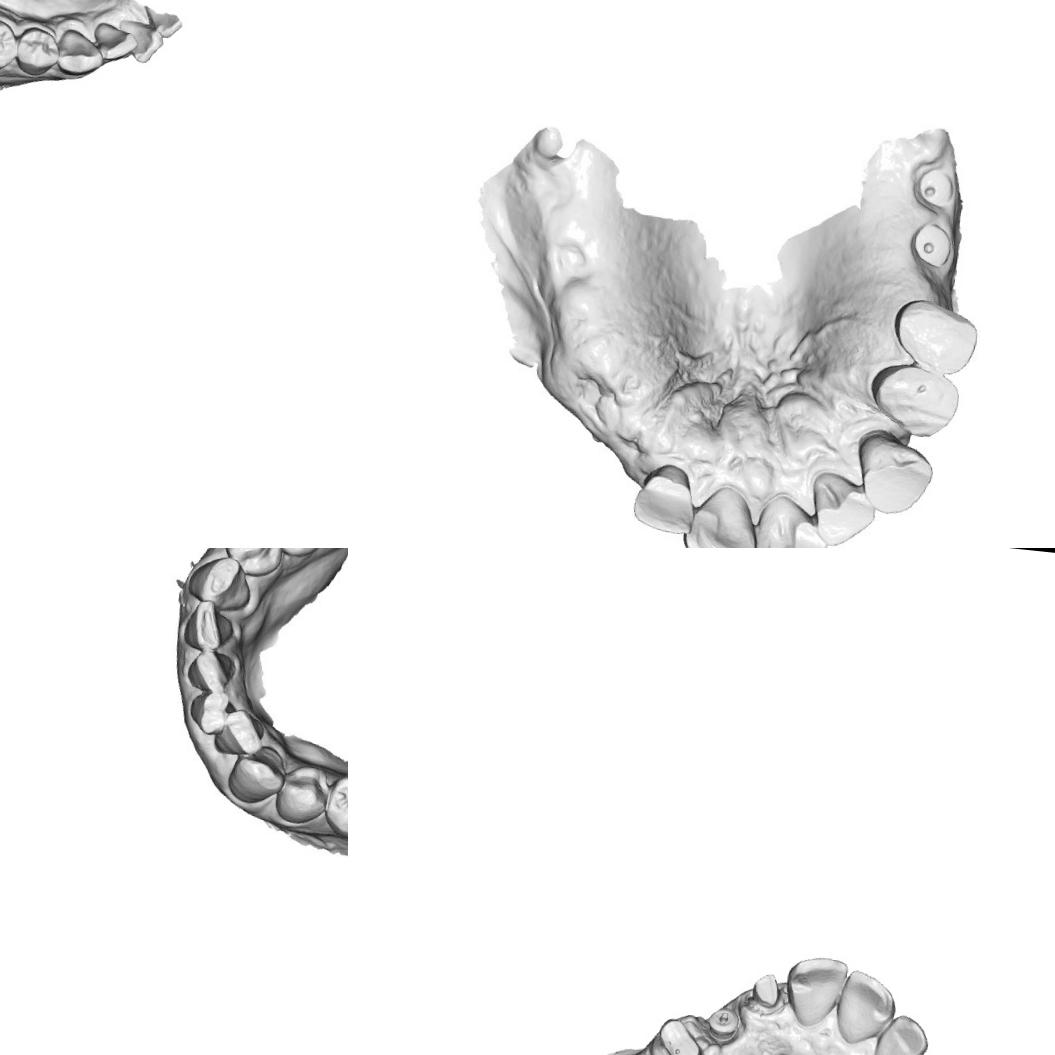canine: (852, 430, 939, 518), (224, 742, 290, 807), (188, 551, 251, 616), (55, 26, 107, 80)
crown: (651, 1014, 709, 1055), (747, 967, 785, 1014)
implant: (899, 208, 969, 280), (910, 164, 959, 218)
implant_minus: (704, 1004, 742, 1048)
incisor: (618, 448, 715, 548), (679, 475, 767, 548), (803, 468, 880, 544), (780, 952, 850, 1034), (832, 966, 900, 1048), (747, 485, 829, 548), (182, 598, 236, 656), (871, 1011, 932, 1055), (220, 708, 271, 760), (115, 17, 166, 68), (185, 688, 235, 740), (189, 647, 236, 694), (91, 20, 140, 65)
premolar: (868, 356, 971, 442), (888, 294, 987, 379), (278, 762, 336, 822), (13, 24, 62, 81), (222, 548, 285, 583), (321, 768, 348, 840), (0, 15, 20, 74)
